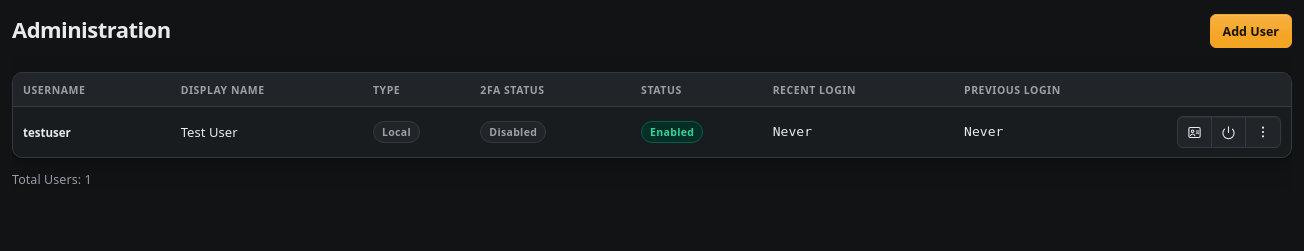
Test case: Users: the table › a local user is offered the password reset
Click the button named "Actions for ".
click(1263, 132)  # box [1246,117,1280,147]
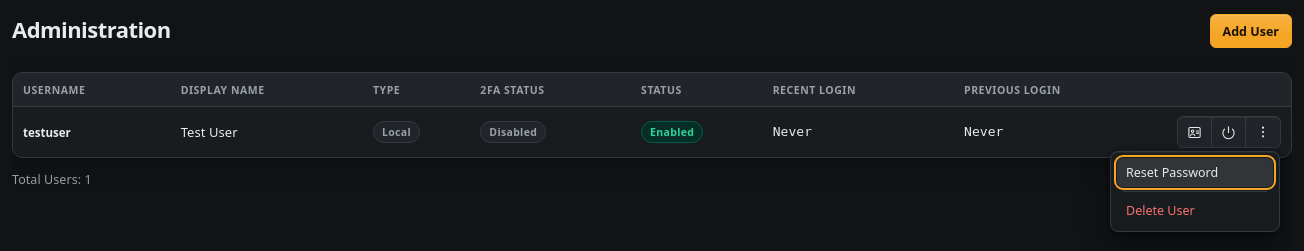
Now the menu item "Reset Password" is shown, box [1117,158,1273,187]
